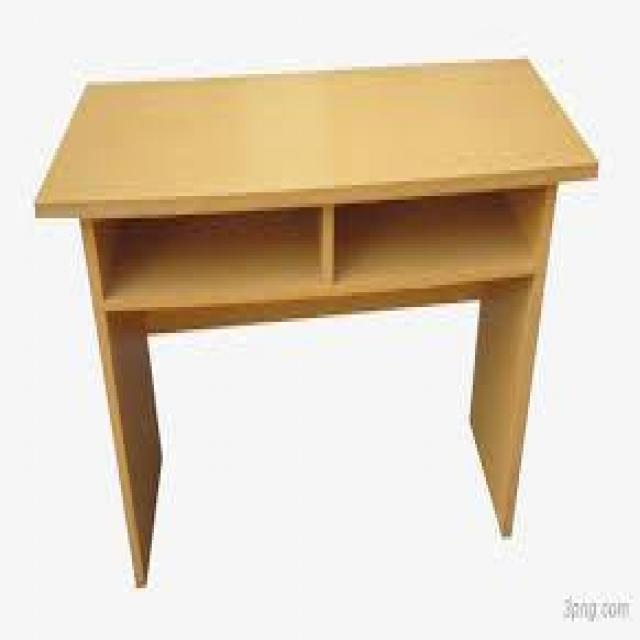table: (13, 31, 616, 605)
